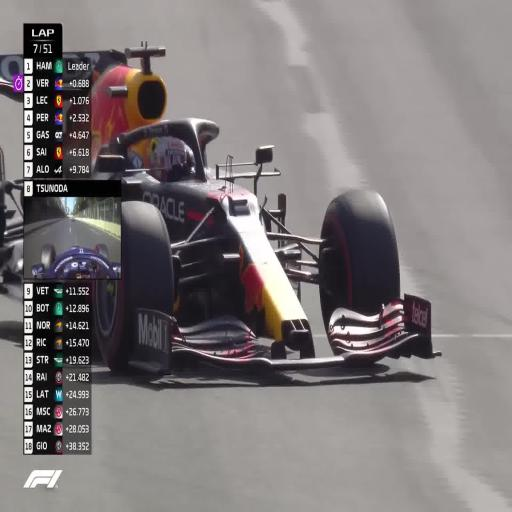f1_car: (91, 44, 438, 370), (112, 52, 122, 54), (64, 54, 65, 56), (105, 52, 106, 52)
